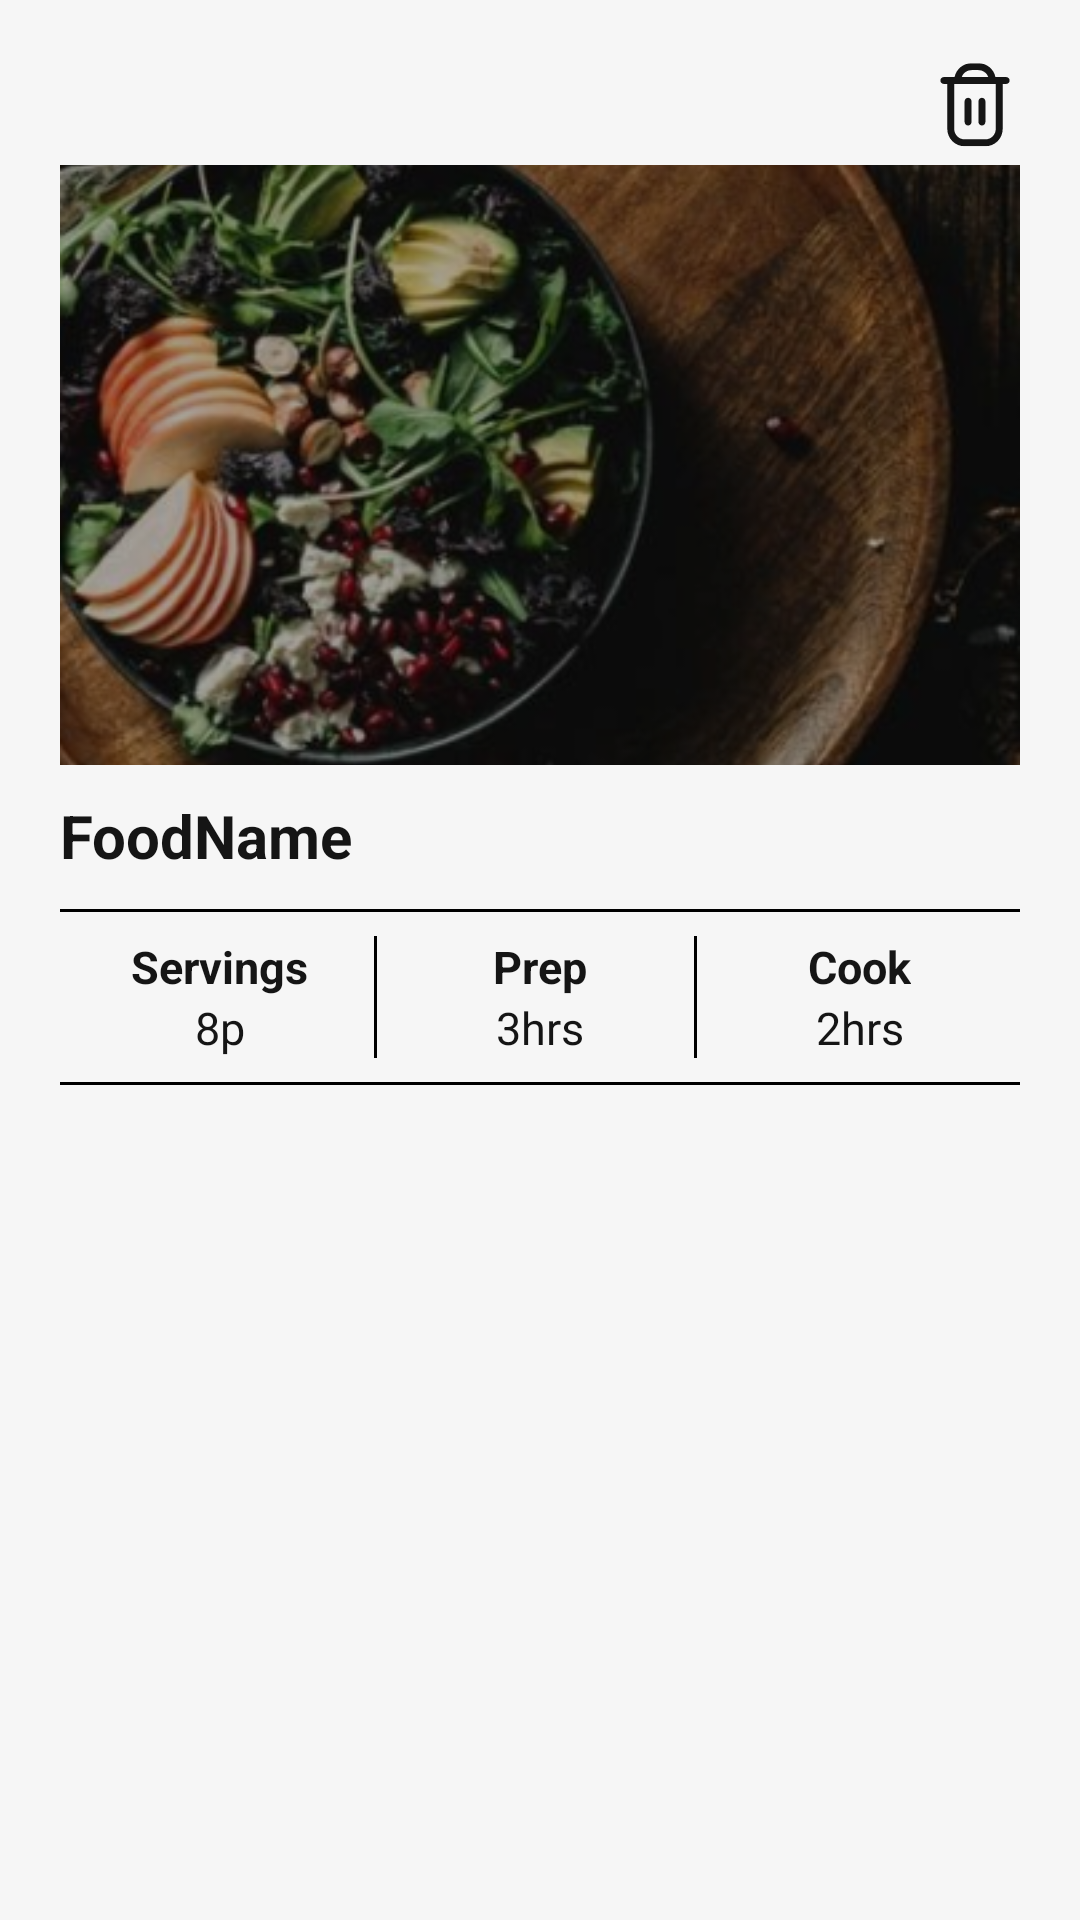

Locate icon controls on the screen. Image size 1080w x 1920h, boxes as (x1,y1,x2,y2).
bin: (940,63,1010,146)
